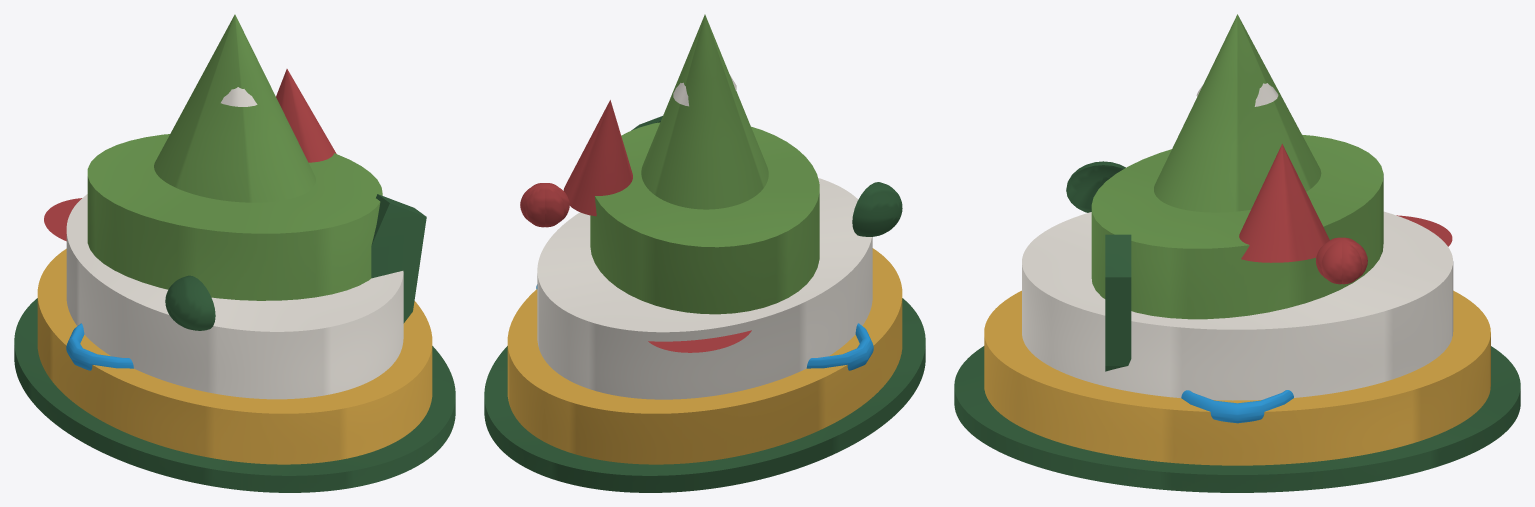
Rendered from 0764_长江黄河图鉴_长江江豚.glb.
3 views of the same model, side by side, from view 1: azimuth 30°, elevation 25°; view 2: azimuth 150°, elevation 25°; view 3: azimuth 270°, elevation 25° (orthographic). The views are drawn at different scales.
Visible parts, largest first — view 1: card_0764; view 2: card_0764; view 3: card_0764.
Part boxes in pixels (x1=…): card_0764: x1=14, y1=14, x2=455, y2=492; card_0764: x1=484, y1=14, x2=925, y2=492; card_0764: x1=954, y1=14, x2=1520, y2=492.
Size of the model in its own units: 0.9839 by 1 by 1.32.
